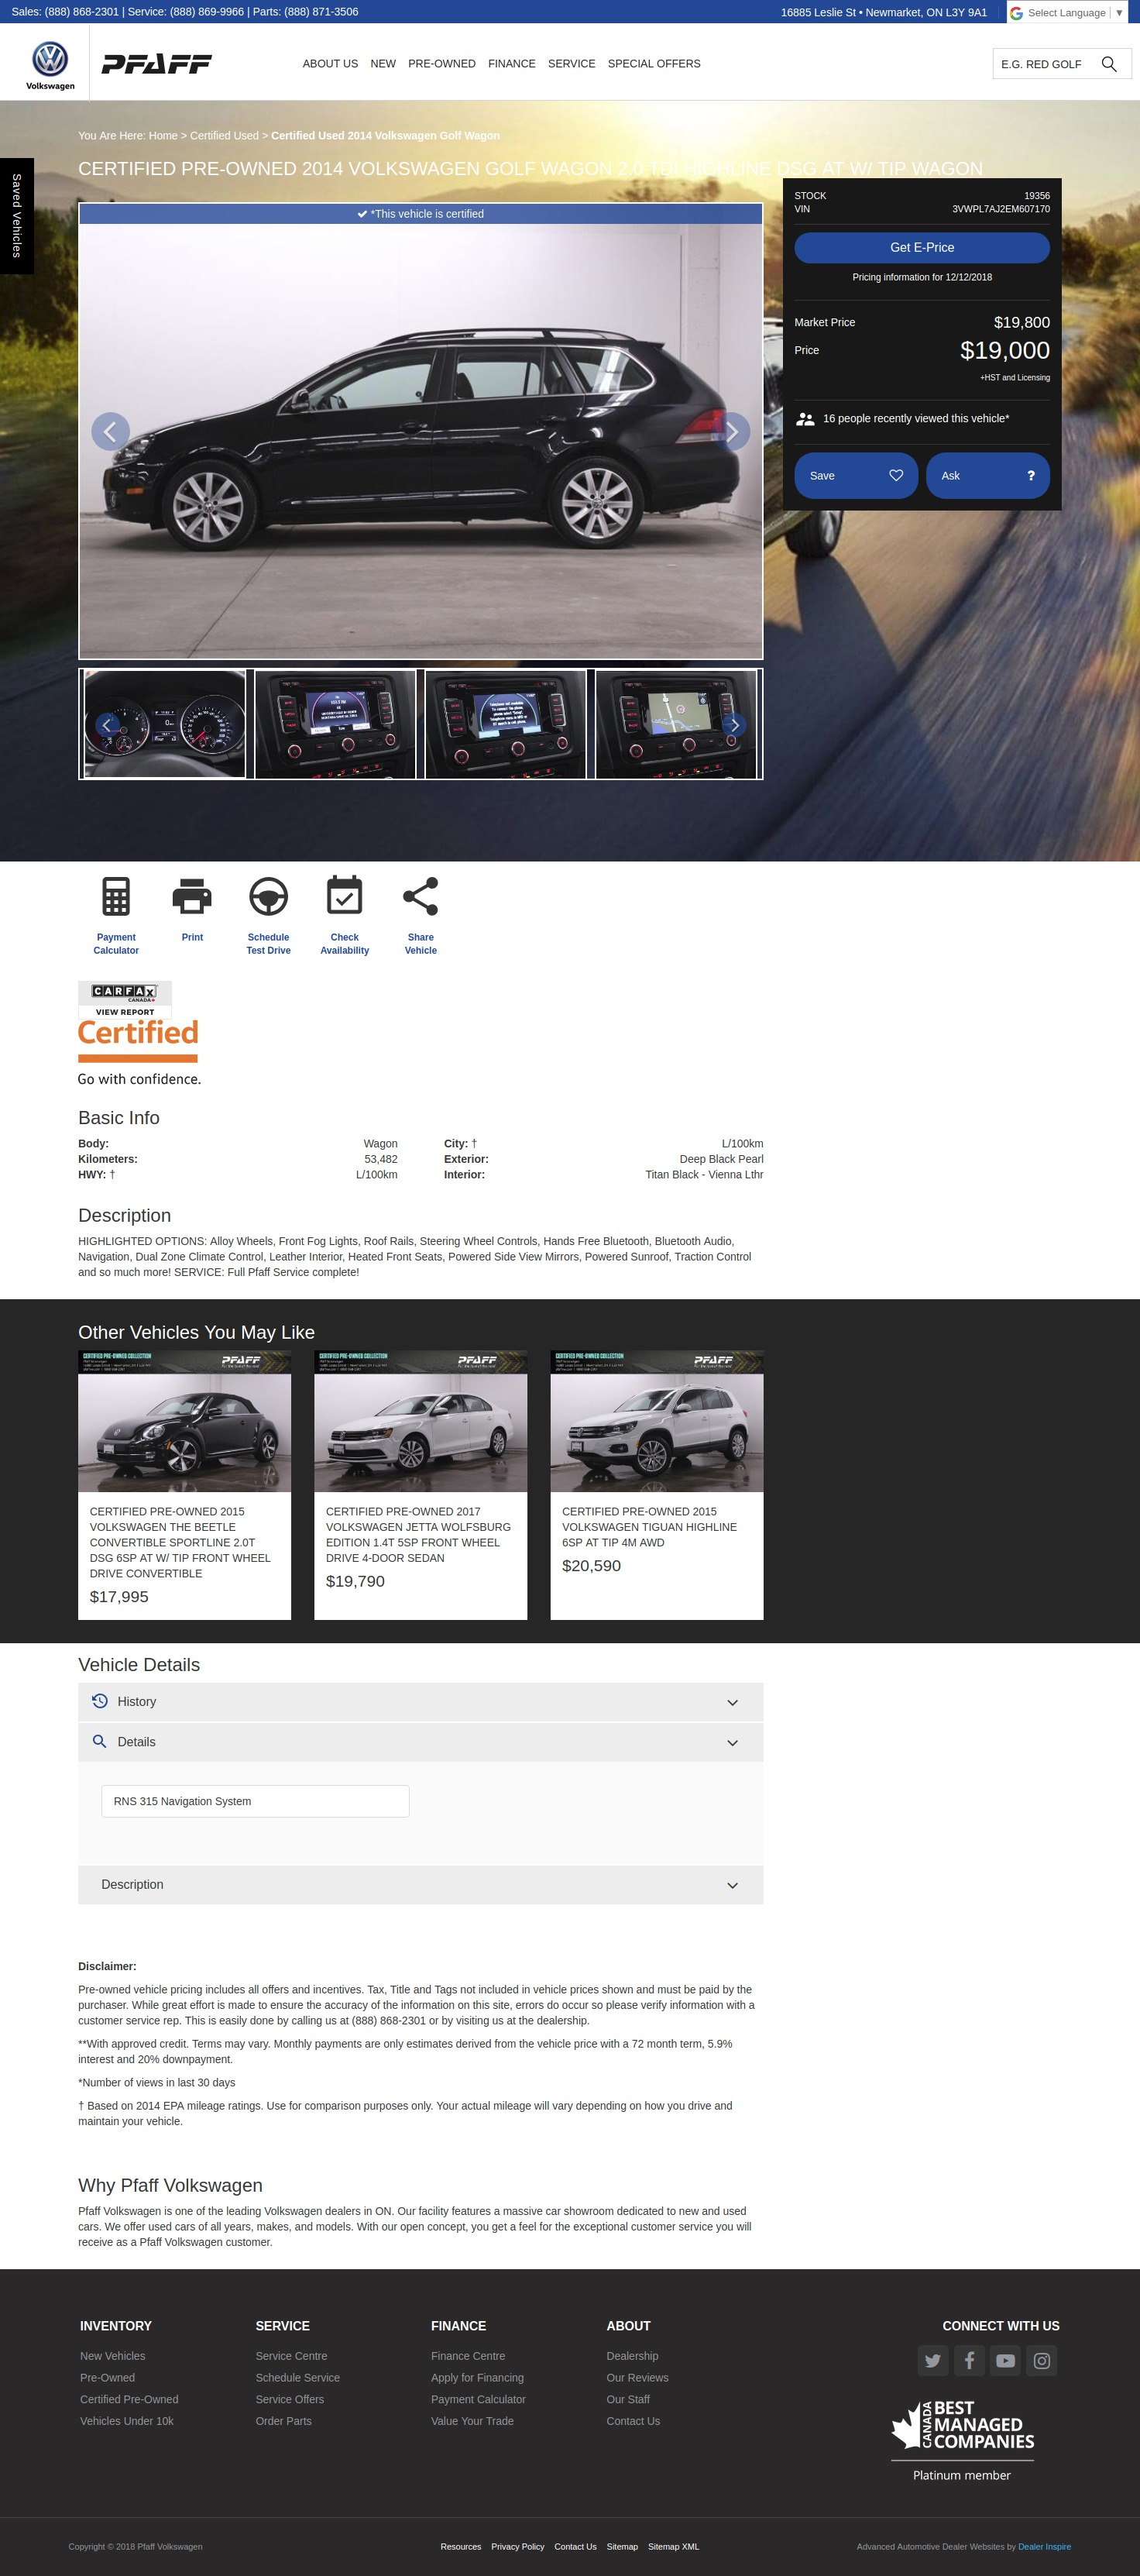car: (731, 720, 739, 733)
